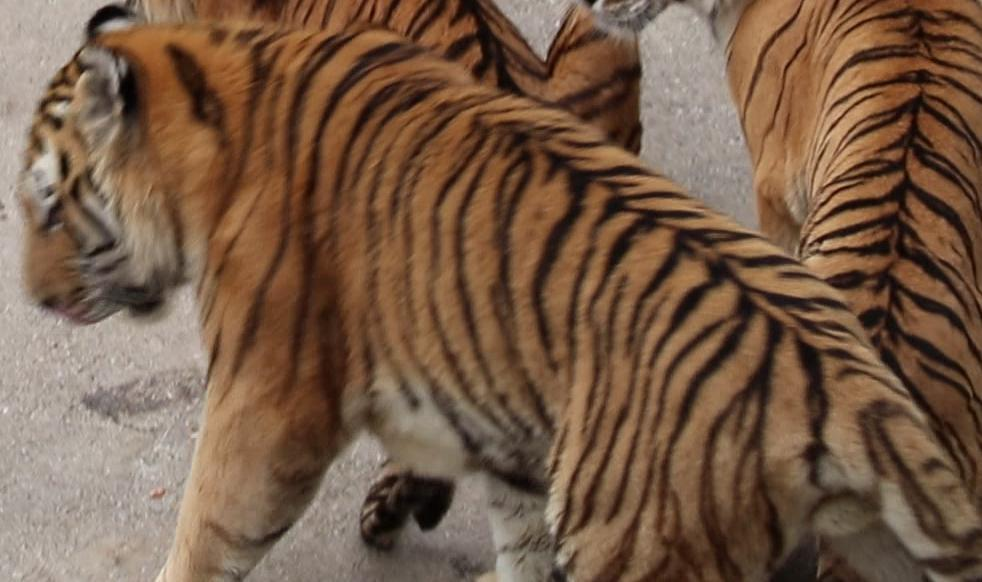tiger: (23, 21, 981, 581)
